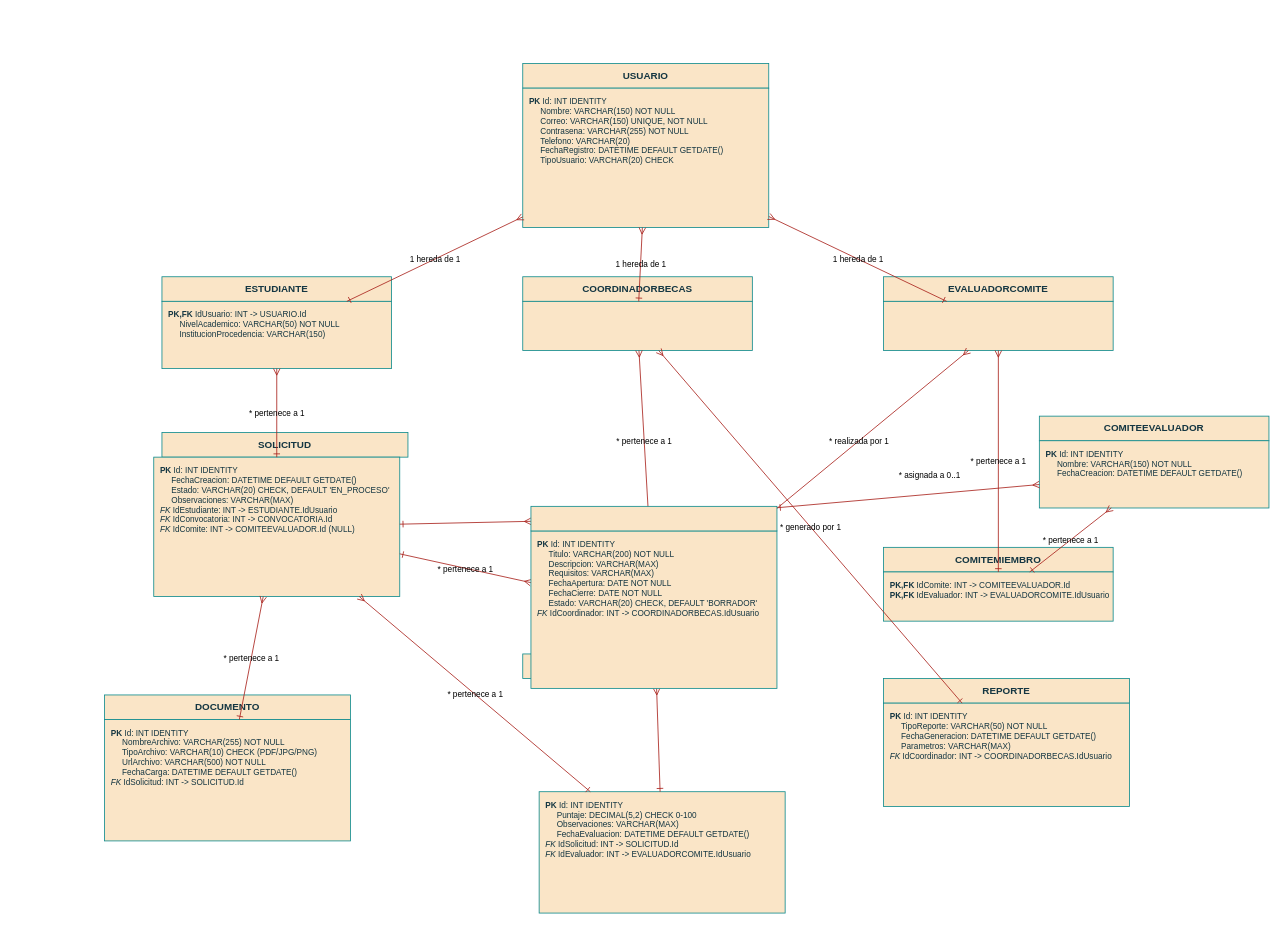
Image size: 1283x927. Some labels were removed from this diagram. The shapes that lost their labels are listed below. From the top down, each one's centre as x and y in pixels, then its label:
(x=637, y=326): PK,FK IdUsuario: INT -> USUARIO.Id Cargo: VARCHAR(100)
(x=998, y=326): PK,FK IdUsuario: INT -> USUARIO.Id Especialidad: VARCHAR(100)
(x=653, y=518): CONVOCATORIA
